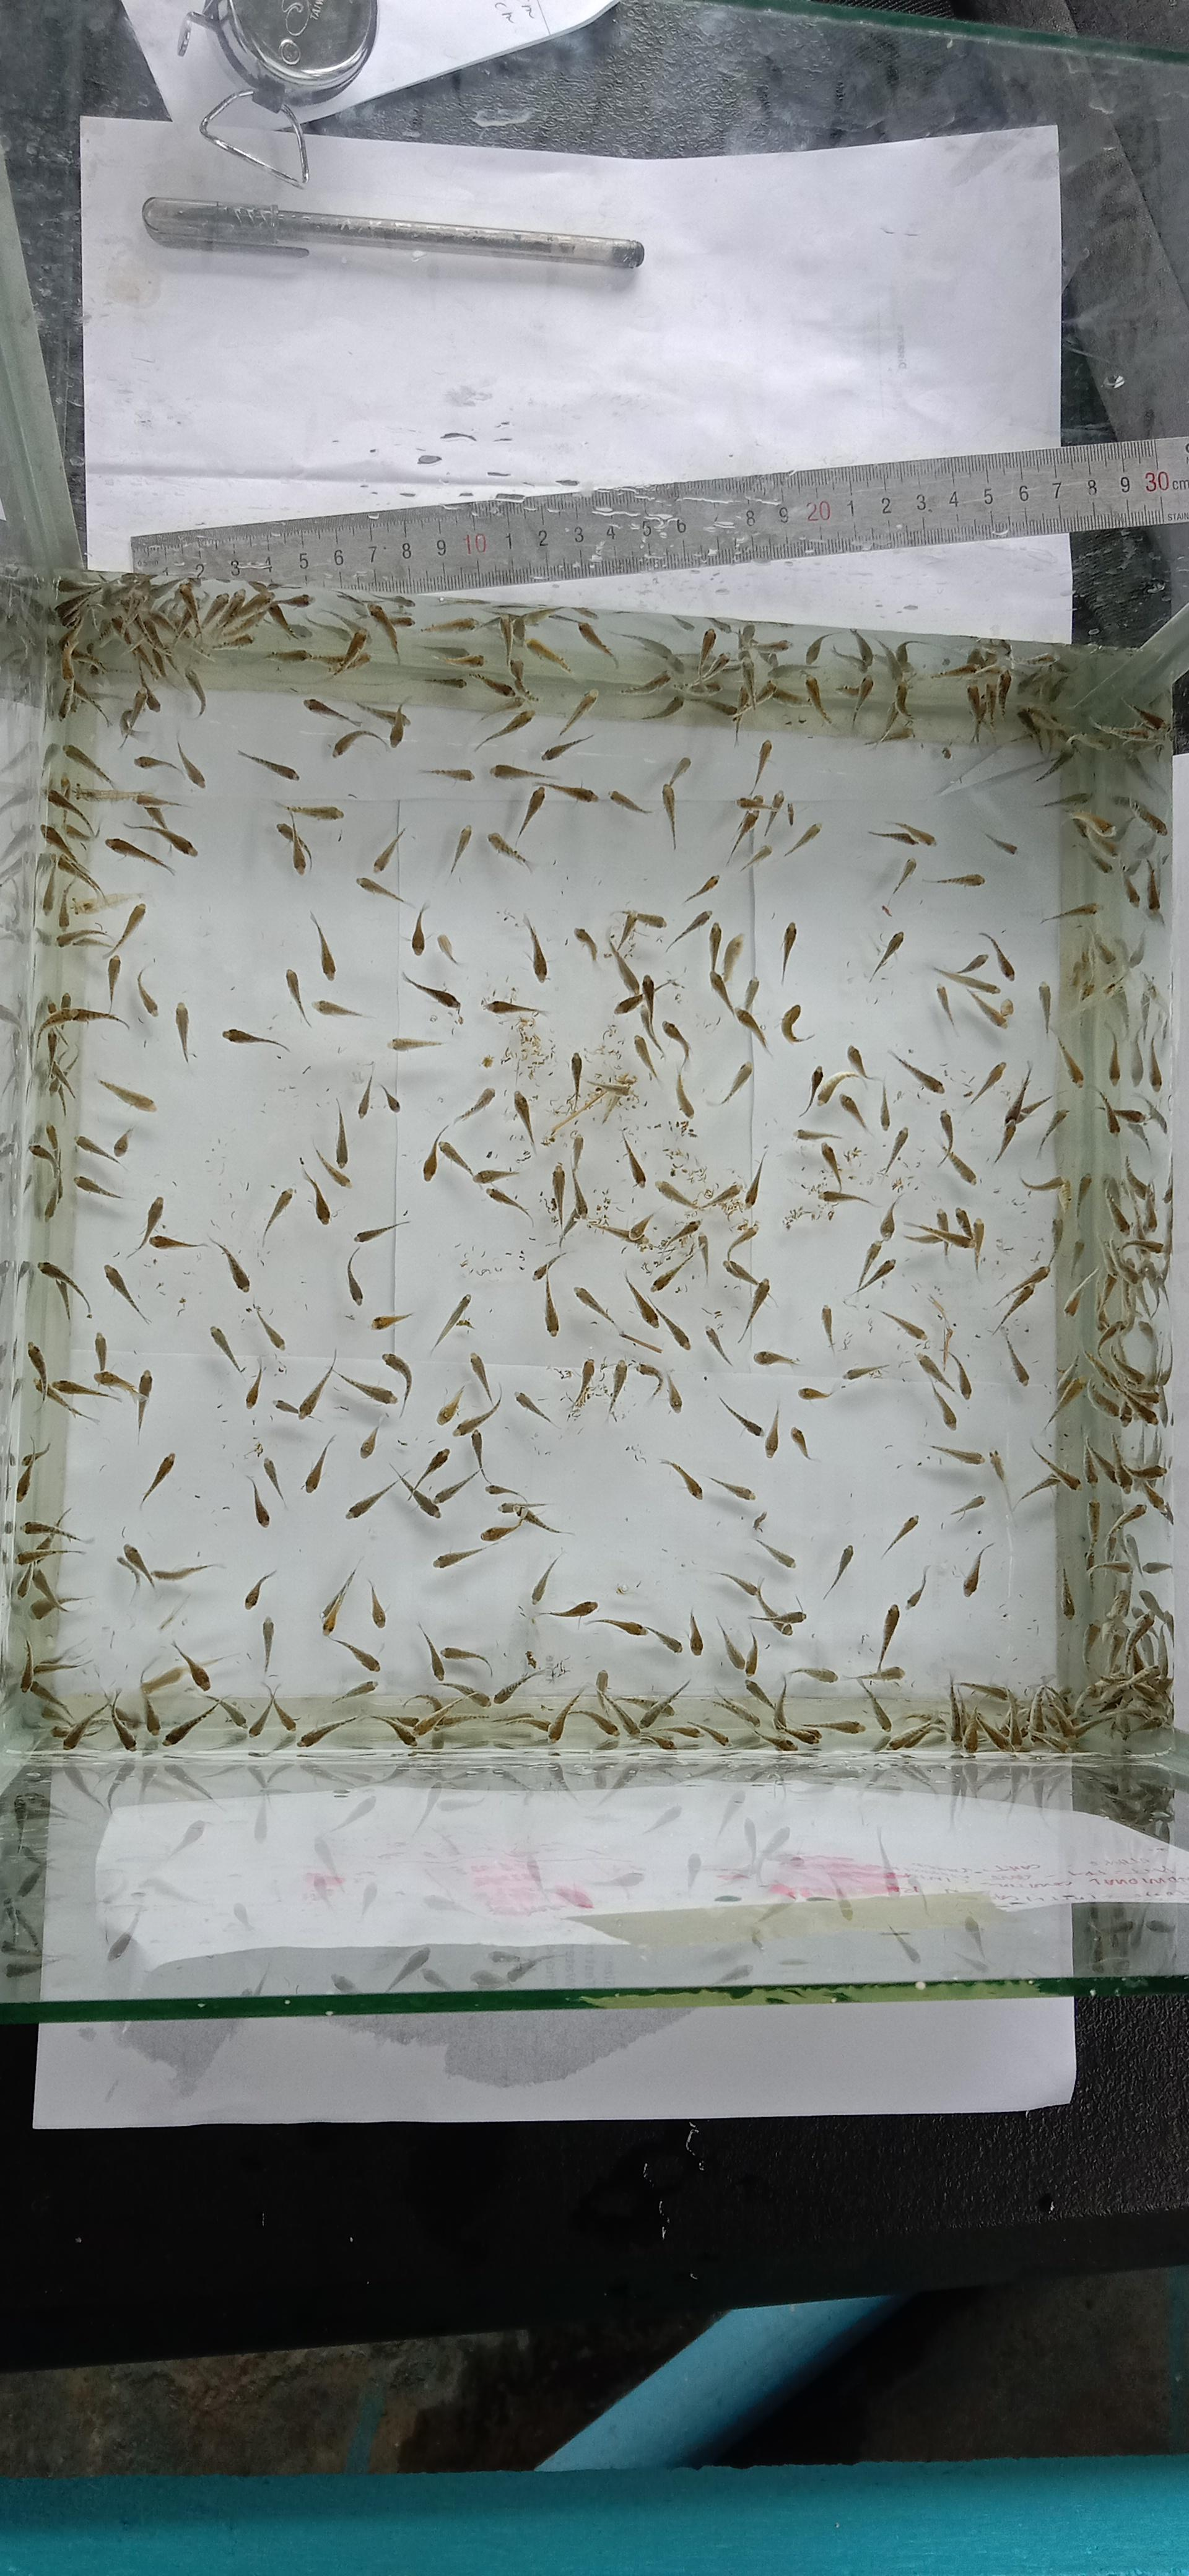fingerling: (572, 915, 696, 1120), (1041, 904, 1155, 1022), (701, 923, 769, 1104), (711, 1674, 862, 1751), (305, 1071, 399, 1188), (948, 1677, 1082, 1755), (870, 1306, 972, 1401), (470, 1434, 560, 1534), (53, 575, 113, 723), (437, 1137, 534, 1222), (723, 739, 785, 867), (931, 946, 1015, 1030), (424, 596, 599, 636), (1028, 1375, 1087, 1492), (422, 1086, 494, 1181), (716, 1393, 815, 1462), (685, 812, 759, 902), (934, 741, 1049, 798), (302, 695, 409, 756), (572, 1285, 662, 1355), (596, 1671, 691, 1736), (345, 1216, 409, 1308), (393, 1452, 480, 1520), (432, 1510, 526, 1572), (992, 1065, 1049, 1165), (921, 1291, 972, 1400), (744, 1677, 821, 1748), (268, 626, 371, 678), (709, 1690, 796, 1753), (122, 1194, 202, 1262), (547, 1076, 629, 1140), (1104, 1235, 1168, 1318), (624, 1272, 690, 1350), (105, 611, 176, 683), (338, 591, 412, 660), (494, 609, 572, 675), (708, 971, 769, 1050), (529, 1552, 598, 1621), (117, 1544, 218, 1590), (670, 634, 744, 697), (209, 1326, 263, 1408), (621, 631, 698, 688), (813, 1043, 880, 1109), (517, 779, 596, 835), (41, 823, 102, 895), (614, 974, 668, 1055), (854, 1199, 898, 1295), (907, 1206, 984, 1260), (491, 762, 596, 802), (447, 1667, 544, 1710), (370, 1702, 458, 1748), (708, 1147, 767, 1216), (452, 1352, 499, 1437), (419, 1625, 491, 1681), (1041, 790, 1120, 841), (274, 1355, 335, 1421), (204, 588, 269, 649), (550, 606, 619, 664), (470, 1433, 526, 1503), (723, 1258, 770, 1341), (995, 1263, 1051, 1332), (95, 1367, 153, 1433), (438, 1138, 517, 1186), (654, 1175, 741, 1216), (499, 908, 549, 981), (1028, 1682, 1079, 1751), (649, 1234, 708, 1293), (964, 669, 1010, 744), (1138, 973, 1168, 1089), (549, 1051, 588, 1138), (708, 923, 746, 1014), (818, 1142, 870, 1206), (314, 1102, 353, 1188), (660, 1020, 695, 1117), (103, 572, 156, 634), (94, 1331, 141, 1398), (136, 1661, 181, 1733), (481, 1500, 558, 1541), (1094, 931, 1143, 996), (411, 902, 460, 966), (747, 1582, 805, 1636), (38, 1260, 90, 1319), (598, 1618, 682, 1654), (36, 1005, 128, 1038), (246, 1456, 289, 1526), (1069, 810, 1118, 871), (936, 1109, 976, 1184), (57, 1695, 110, 1751), (28, 1571, 89, 1618), (1117, 1318, 1164, 1378), (532, 1252, 567, 1336), (637, 1677, 691, 1730), (76, 785, 182, 812), (734, 739, 774, 810), (471, 706, 534, 751), (1028, 1439, 1081, 1492), (355, 697, 409, 747), (46, 785, 97, 839), (660, 756, 690, 848), (103, 1263, 149, 1322), (28, 1142, 62, 1221), (1015, 654, 1067, 705), (916, 1350, 971, 1400), (268, 646, 358, 675), (123, 820, 195, 856), (320, 1566, 358, 1635), (430, 1291, 473, 1352), (506, 1022, 555, 1074), (795, 1129, 844, 1181), (393, 1465, 440, 1520), (806, 629, 870, 669), (931, 953, 995, 992), (1095, 1091, 1146, 1140), (28, 1641, 89, 1682), (105, 836, 174, 872), (741, 861, 762, 977), (67, 887, 143, 920), (888, 1048, 944, 1092), (297, 1155, 332, 1226), (1017, 705, 1066, 754), (44, 1032, 77, 1106), (126, 1194, 164, 1258), (879, 1715, 943, 1753), (852, 632, 905, 678), (163, 1704, 217, 1748), (338, 588, 414, 619), (56, 575, 102, 626), (169, 1640, 213, 1692), (62, 743, 115, 787), (637, 1360, 682, 1413), (604, 692, 683, 721), (396, 1446, 450, 1488), (718, 1618, 757, 1676), (38, 1382, 95, 1421), (662, 908, 713, 953), (402, 974, 461, 1012), (209, 1237, 250, 1291), (728, 667, 755, 746), (545, 1687, 583, 1745), (1044, 1377, 1086, 1429), (591, 1212, 654, 1247), (120, 685, 159, 739), (723, 1221, 759, 1280), (417, 1700, 463, 1746), (453, 1393, 501, 1437), (34, 991, 72, 1046), (614, 908, 665, 950), (624, 1273, 660, 1331), (107, 900, 146, 953), (381, 1350, 412, 1416), (338, 1372, 397, 1406), (297, 1715, 356, 1750), (869, 701, 915, 746), (16, 1442, 51, 1502), (1086, 1442, 1128, 1490), (639, 976, 665, 1053), (328, 628, 370, 677), (711, 1690, 760, 1732), (140, 1452, 176, 1508), (261, 1186, 294, 1247), (99, 1078, 156, 1112), (1086, 1380, 1130, 1424), (964, 1058, 1007, 1104), (356, 1073, 399, 1119), (276, 820, 312, 874), (236, 749, 299, 780), (977, 930, 1017, 979), (368, 601, 401, 660), (304, 605, 363, 637), (491, 605, 557, 634), (310, 912, 338, 981), (693, 654, 744, 692), (491, 1669, 542, 1707), (948, 1676, 972, 1753), (328, 1638, 381, 1674), (718, 1395, 762, 1437), (575, 619, 617, 664), (591, 1076, 632, 1122), (701, 618, 742, 664), (572, 1285, 617, 1326), (23, 1516, 90, 1544), (558, 688, 598, 736), (524, 634, 572, 674), (603, 1694, 642, 1741), (430, 1469, 480, 1506), (302, 1434, 333, 1493), (857, 1681, 893, 1732), (841, 674, 874, 729), (608, 941, 640, 997), (619, 631, 675, 664), (1033, 743, 1076, 785), (202, 590, 241, 636), (26, 1681, 72, 1720), (1107, 1239, 1146, 1285), (1104, 1176, 1133, 1237), (16, 1543, 89, 1567), (222, 1027, 289, 1053), (368, 1713, 419, 1748), (130, 639, 172, 680), (56, 636, 77, 718), (402, 1695, 445, 1736), (107, 1695, 138, 1751), (874, 1308, 926, 1341), (511, 1089, 537, 1155), (345, 1483, 393, 1520), (209, 1326, 245, 1373), (250, 1304, 286, 1352), (870, 930, 905, 979), (823, 1544, 854, 1598), (961, 1544, 992, 1598), (854, 1253, 895, 1295), (659, 1459, 701, 1498), (486, 831, 530, 869), (117, 1544, 154, 1589), (732, 1005, 770, 1050), (813, 1069, 857, 1107), (511, 1359, 578, 1383), (332, 728, 388, 757), (356, 876, 412, 905), (522, 1649, 570, 1684), (964, 680, 990, 743), (174, 577, 200, 639), (524, 915, 549, 981), (312, 1147, 351, 1188), (72, 680, 112, 721), (34, 853, 59, 918), (568, 1134, 588, 1216), (706, 920, 726, 1002), (989, 1447, 1013, 1513), (880, 1515, 918, 1557), (972, 1709, 1010, 1751), (486, 1482, 544, 1510), (594, 1667, 621, 1728), (726, 813, 757, 864), (907, 1217, 957, 1249), (419, 1625, 447, 1681), (805, 674, 834, 726), (422, 1122, 448, 1181), (266, 1684, 297, 1733), (657, 1217, 701, 1252), (540, 733, 594, 761), (304, 697, 358, 724), (1056, 1033, 1084, 1088), (373, 825, 406, 871), (486, 1188, 532, 1221), (1072, 810, 1118, 843), (496, 613, 526, 664), (931, 657, 992, 682), (438, 1138, 476, 1178), (1107, 1505, 1145, 1544), (787, 1718, 862, 1738), (1036, 1107, 1067, 1155), (455, 1086, 496, 1122), (138, 611, 179, 647), (971, 992, 1013, 1027), (153, 1561, 217, 1584), (967, 639, 1010, 674), (355, 1216, 411, 1242), (747, 1608, 803, 1635), (517, 785, 547, 835), (1040, 900, 1099, 925), (425, 644, 484, 669), (138, 1663, 182, 1695), (877, 1605, 900, 1667), (74, 1134, 120, 1165), (1130, 797, 1168, 835), (874, 639, 910, 678), (530, 1554, 558, 1605), (284, 968, 309, 1025), (780, 1002, 815, 1043), (744, 1679, 778, 1720), (176, 739, 205, 787), (708, 971, 737, 1019), (719, 1061, 752, 1104), (655, 1178, 698, 1211), (1092, 931, 1125, 974), (379, 1051, 402, 1112), (621, 1135, 647, 1188), (263, 1457, 289, 1510), (685, 693, 737, 720), (783, 821, 821, 858), (939, 1147, 976, 1184), (514, 1391, 553, 1426), (880, 1127, 910, 1173), (95, 1368, 141, 1398), (754, 1536, 795, 1569), (72, 1173, 123, 1199), (440, 1644, 491, 1671), (1003, 1334, 1030, 1385), (928, 1442, 982, 1467), (762, 675, 805, 706), (632, 1033, 660, 1081), (928, 1387, 957, 1431), (716, 1571, 760, 1600), (213, 1694, 250, 1730), (608, 1359, 629, 1419), (53, 1378, 113, 1400), (243, 1569, 276, 1608), (783, 1203, 833, 1229), (46, 785, 85, 818), (742, 1150, 765, 1206), (506, 657, 534, 703), (1105, 1104, 1146, 1135), (476, 670, 517, 701), (660, 1020, 691, 1061), (481, 1511, 524, 1541), (703, 1326, 732, 1368), (517, 1505, 560, 1534), (572, 1359, 596, 1410), (246, 1694, 274, 1738), (447, 1682, 491, 1710), (484, 997, 542, 1019), (499, 1712, 549, 1736), (734, 790, 783, 815), (798, 1065, 823, 1114), (708, 1475, 754, 1502), (544, 780, 596, 803), (332, 1679, 378, 1705), (1122, 856, 1145, 908), (617, 1331, 663, 1357), (537, 1600, 598, 1620), (778, 920, 798, 981), (706, 1180, 742, 1212), (1128, 700, 1166, 731), (721, 933, 746, 981), (962, 1681, 1010, 1705), (622, 669, 670, 693), (450, 823, 473, 874), (174, 1002, 194, 1061), (284, 802, 343, 821), (266, 600, 296, 639), (136, 966, 159, 1015), (345, 1249, 365, 1306), (135, 792, 184, 815), (136, 1368, 154, 1431), (39, 823, 76, 854), (314, 999, 366, 1020), (640, 693, 683, 720), (683, 674, 726, 700), (644, 1625, 682, 1654), (435, 1387, 463, 1426), (573, 927, 601, 966), (834, 674, 874, 701), (434, 1548, 484, 1569), (1041, 790, 1092, 812), (854, 1664, 905, 1686), (609, 789, 650, 815), (585, 1710, 619, 1741), (754, 641, 788, 672), (71, 644, 105, 675), (259, 1617, 278, 1676), (762, 1403, 782, 1457), (424, 614, 478, 634), (838, 1094, 867, 1130), (736, 662, 755, 716), (557, 1211, 586, 1247), (468, 1352, 491, 1398), (248, 1477, 269, 1526), (333, 1104, 350, 1168), (186, 667, 207, 716), (568, 1171, 590, 1221), (1118, 1235, 1168, 1257), (542, 1278, 560, 1336), (409, 902, 429, 954), (56, 928, 108, 948), (726, 1222, 759, 1253), (532, 1250, 567, 1280), (420, 1446, 450, 1480), (1018, 1173, 1066, 1194), (685, 872, 721, 900), (1143, 858, 1161, 913), (1020, 1475, 1056, 1503), (819, 1188, 870, 1207), (149, 1234, 200, 1253), (470, 1434, 489, 1485), (925, 1290, 951, 1327), (751, 739, 772, 785), (849, 629, 872, 672), (662, 1723, 705, 1746), (933, 984, 956, 1027), (1095, 1089, 1117, 1135), (1061, 1275, 1084, 1318), (41, 1175, 62, 1221), (591, 1074, 634, 1097), (1058, 1564, 1076, 1618), (156, 1602, 187, 1633), (549, 1165, 565, 1224), (739, 843, 774, 871), (636, 1360, 663, 1395), (1123, 1163, 1150, 1199), (819, 1142, 841, 1186), (905, 1566, 926, 1610), (874, 1199, 897, 1240), (767, 662, 808, 685), (599, 1618, 647, 1638), (892, 856, 916, 894), (897, 820, 934, 844), (765, 790, 790, 828), (749, 678, 778, 710), (491, 762, 542, 780), (613, 989, 645, 1017), (969, 1217, 985, 1273), (755, 1732, 798, 1753), (675, 1071, 695, 1117), (698, 626, 718, 672), (751, 636, 790, 659), (892, 677, 915, 716), (473, 1165, 519, 1184), (616, 910, 639, 950), (982, 831, 1018, 856), (788, 1424, 813, 1460), (992, 670, 1010, 720), (867, 826, 916, 844), (420, 766, 475, 782), (388, 706, 409, 747), (370, 1311, 414, 1331), (245, 1364, 264, 1408), (422, 672, 466, 692), (268, 647, 312, 667), (698, 1720, 729, 1748), (662, 756, 690, 787), (948, 1493, 985, 1516), (1021, 652, 1059, 675), (435, 933, 461, 966), (1036, 981, 1053, 1033), (18, 1641, 34, 1694), (368, 1580, 386, 1628), (788, 1666, 836, 1684), (693, 1234, 711, 1281), (213, 629, 256, 649), (951, 1359, 972, 1398), (273, 1396, 312, 1418), (951, 1206, 972, 1245), (708, 920, 724, 971), (686, 1610, 705, 1656), (1125, 1038, 1143, 1084), (388, 1037, 443, 1051), (16, 1548, 57, 1567), (895, 639, 916, 677), (133, 754, 177, 772), (788, 1723, 823, 1746), (107, 954, 123, 1002), (568, 1051, 585, 1099), (795, 1127, 842, 1143), (964, 644, 992, 672), (26, 1342, 46, 1382), (28, 1142, 57, 1168), (292, 833, 312, 872), (844, 1364, 887, 1382), (57, 884, 76, 927), (1087, 1561, 1130, 1579), (819, 1304, 836, 1350), (358, 1424, 381, 1457), (736, 621, 755, 659), (846, 1043, 867, 1078), (754, 1350, 798, 1367), (705, 616, 734, 641), (805, 634, 829, 664), (20, 1442, 51, 1465), (665, 1373, 683, 1413), (742, 1636, 760, 1676), (938, 1322, 956, 1362), (877, 1083, 892, 1130), (356, 1074, 373, 1117), (938, 1109, 954, 1152), (1105, 1040, 1122, 1083), (933, 872, 985, 885), (43, 1122, 61, 1160), (402, 1694, 440, 1712), (110, 1129, 133, 1158), (987, 1447, 1007, 1482), (120, 706, 140, 741), (92, 1332, 108, 1373), (105, 611, 128, 639), (243, 1437, 266, 1465), (420, 1143, 437, 1181), (647, 1733, 680, 1751), (570, 1134, 585, 1173), (484, 996, 519, 1012), (824, 1720, 862, 1735), (381, 1084, 401, 1112), (136, 1368, 154, 1398), (796, 1385, 831, 1400), (15, 1467, 30, 1502), (274, 820, 296, 843), (624, 1442, 647, 1464), (246, 577, 276, 593), (700, 1303, 724, 1322), (782, 797, 796, 828), (751, 1510, 769, 1534), (613, 1580, 642, 1595), (767, 790, 787, 812), (496, 907, 519, 925), (670, 613, 695, 629)
